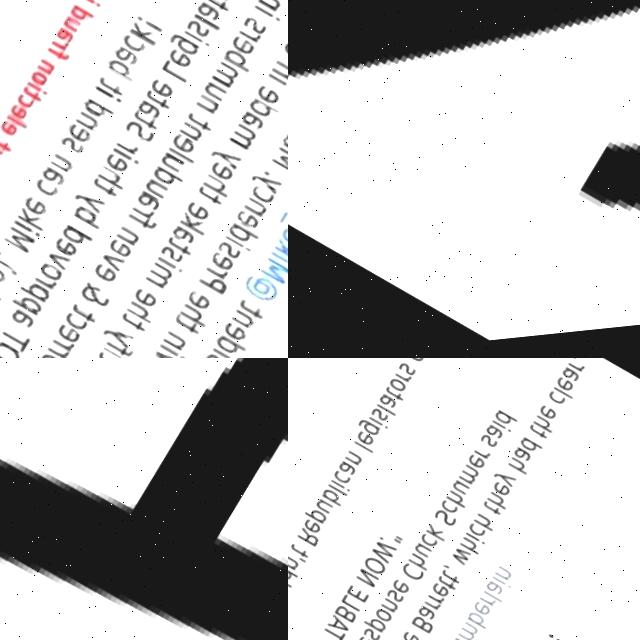7: (288, 0, 640, 358)
A: (32, 165, 65, 197), (230, 114, 263, 145), (107, 47, 140, 78), (162, 227, 194, 258), (128, 100, 160, 131), (1, 307, 33, 337), (189, 4, 221, 34), (129, 195, 157, 221), (48, 27, 75, 53), (409, 609, 434, 632), (373, 396, 398, 419), (321, 618, 347, 640), (556, 374, 580, 396), (479, 430, 503, 452), (507, 454, 531, 475), (479, 587, 501, 607), (333, 464, 355, 484), (273, 138, 288, 167), (262, 0, 288, 8)
B: (64, 206, 102, 240), (217, 51, 254, 85), (101, 59, 136, 92), (315, 490, 343, 515), (460, 617, 486, 640), (328, 608, 353, 631), (404, 619, 431, 640)
C: (114, 34, 146, 65), (243, 189, 273, 217), (55, 312, 85, 340), (26, 177, 56, 205), (394, 566, 422, 593), (434, 504, 457, 526), (9, 94, 31, 116), (274, 44, 288, 75), (544, 398, 565, 418), (413, 538, 435, 557), (329, 474, 349, 493), (463, 530, 482, 548)
D: (239, 100, 278, 136), (218, 226, 256, 260), (75, 98, 112, 131), (144, 168, 179, 201), (53, 225, 88, 258), (63, 4, 93, 33), (204, 338, 241, 358), (514, 442, 542, 467), (489, 416, 517, 441), (288, 566, 294, 590)
E: (57, 121, 91, 153), (246, 88, 279, 119), (141, 80, 173, 111), (97, 239, 130, 269), (212, 324, 244, 354), (200, 254, 232, 284), (43, 236, 75, 266), (14, 195, 46, 225), (162, 136, 194, 165), (177, 293, 208, 322), (122, 289, 153, 318), (84, 263, 115, 292), (227, 214, 257, 243), (224, 39, 254, 68), (203, 165, 233, 193), (46, 324, 76, 352), (162, 51, 191, 79), (178, 204, 207, 231), (96, 155, 125, 182), (340, 588, 366, 612), (269, 230, 288, 262), (485, 486, 510, 509), (383, 582, 407, 605), (424, 586, 448, 608), (550, 384, 574, 406), (461, 459, 485, 481), (296, 521, 320, 543), (534, 411, 557, 433), (351, 434, 374, 456), (2, 105, 25, 126), (465, 607, 487, 628), (0, 119, 17, 143), (393, 634, 417, 640)
F: (119, 213, 152, 242), (41, 47, 67, 70), (96, 340, 128, 358)
G: (161, 34, 201, 71), (353, 421, 378, 445), (397, 358, 424, 373)
H: (89, 166, 126, 200), (194, 177, 229, 210), (116, 301, 151, 334), (171, 307, 205, 337), (440, 494, 467, 520), (401, 557, 429, 582), (468, 518, 495, 543), (503, 463, 530, 488), (529, 422, 555, 446), (454, 543, 479, 566), (482, 499, 507, 521)
I: (87, 87, 118, 112), (148, 258, 178, 283), (105, 150, 135, 175), (5, 220, 35, 245), (217, 240, 247, 264), (178, 33, 208, 57), (261, 77, 288, 102), (19, 80, 46, 103), (250, 11, 277, 33), (263, 257, 288, 278), (486, 582, 510, 602), (75, 0, 102, 17), (460, 537, 483, 556), (487, 426, 510, 445), (325, 482, 348, 500), (149, 345, 180, 358), (365, 420, 387, 438), (92, 347, 122, 358), (202, 351, 231, 358)
K: (123, 23, 158, 56), (172, 215, 206, 246), (10, 207, 44, 238), (264, 242, 288, 274), (419, 528, 444, 552)
L: (154, 62, 189, 94), (162, 150, 190, 172), (189, 18, 217, 40), (335, 597, 359, 620), (0, 114, 24, 135), (550, 394, 572, 413), (323, 486, 345, 505), (372, 407, 395, 425), (349, 444, 372, 462), (477, 597, 499, 614)
M: (249, 261, 288, 297), (222, 128, 256, 163), (204, 64, 238, 99), (138, 265, 170, 298), (0, 226, 30, 259), (263, 153, 288, 188), (452, 470, 479, 497), (449, 627, 474, 640)
N: (233, 201, 265, 231), (187, 97, 217, 126), (172, 125, 201, 153), (68, 112, 97, 140), (222, 314, 250, 341), (107, 228, 135, 254), (42, 154, 70, 180), (152, 333, 181, 358), (250, 0, 280, 24), (349, 572, 376, 597), (264, 65, 288, 93), (31, 60, 54, 82), (339, 454, 361, 474), (374, 602, 394, 621), (489, 573, 508, 591), (288, 556, 297, 578), (281, 127, 288, 154)
O: (30, 262, 59, 289), (356, 558, 384, 585), (23, 70, 48, 95), (383, 381, 407, 403), (368, 611, 389, 631), (0, 338, 16, 358)
P: (0, 358, 288, 640), (2, 290, 37, 323), (10, 277, 45, 309), (189, 275, 223, 306), (357, 617, 384, 640), (299, 509, 325, 532)
R: (106, 139, 136, 165), (290, 529, 318, 555), (198, 266, 224, 290), (27, 273, 52, 295), (44, 336, 68, 358), (233, 32, 257, 53), (126, 205, 149, 226), (469, 452, 490, 472), (46, 40, 66, 59), (421, 596, 441, 615), (391, 374, 411, 393), (564, 367, 584, 385), (39, 344, 63, 358), (418, 603, 437, 620), (473, 600, 491, 617)
S: (117, 121, 154, 155), (179, 21, 210, 50), (151, 247, 179, 273), (54, 137, 82, 163), (209, 245, 236, 270), (237, 21, 263, 45), (429, 514, 454, 538), (366, 410, 388, 432), (475, 439, 497, 459), (380, 593, 401, 613), (394, 367, 416, 386), (354, 628, 379, 640), (77, 0, 100, 6)
T: (157, 237, 192, 268), (228, 303, 261, 333), (91, 77, 124, 107), (0, 323, 27, 358), (138, 92, 170, 121), (180, 116, 211, 143), (165, 317, 195, 344), (85, 180, 115, 207), (190, 190, 220, 216), (63, 306, 93, 332), (127, 114, 157, 140), (113, 315, 141, 341), (199, 0, 229, 23), (16, 87, 41, 109), (524, 431, 549, 453), (379, 390, 404, 412), (477, 507, 501, 528), (430, 581, 454, 602), (433, 574, 457, 594), (288, 544, 307, 566), (313, 626, 341, 640), (0, 135, 9, 157)
U: (136, 180, 165, 208), (152, 155, 181, 182), (195, 84, 223, 111), (57, 18, 80, 40), (309, 500, 332, 522), (446, 485, 467, 506), (408, 547, 429, 568), (200, 0, 232, 13)
V: (91, 250, 123, 280), (38, 249, 67, 276)
W: (363, 542, 395, 574), (444, 552, 469, 576), (139, 351, 171, 358)
Y: (242, 173, 279, 207), (203, 148, 240, 182), (65, 189, 102, 223), (94, 324, 129, 357), (488, 474, 515, 499)
